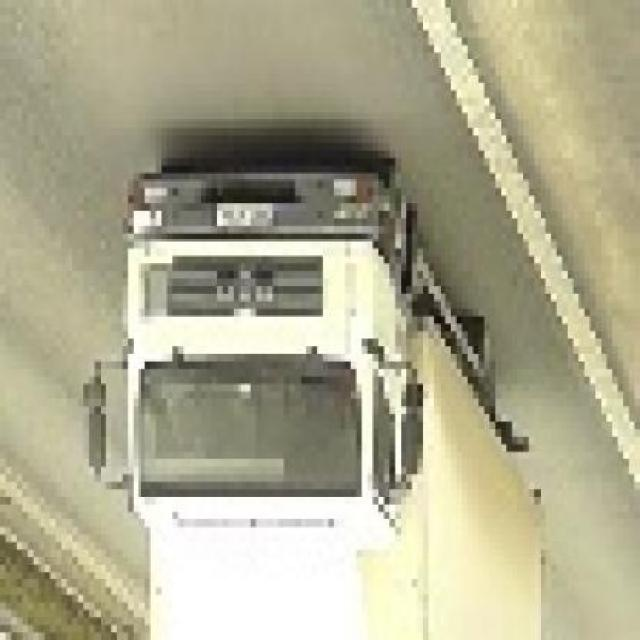truck: (85, 152, 536, 640)
